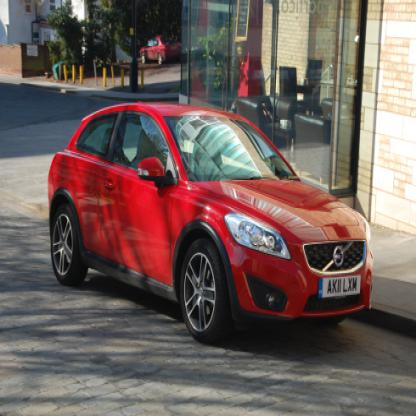Vehicle: (50, 104, 374, 340)
